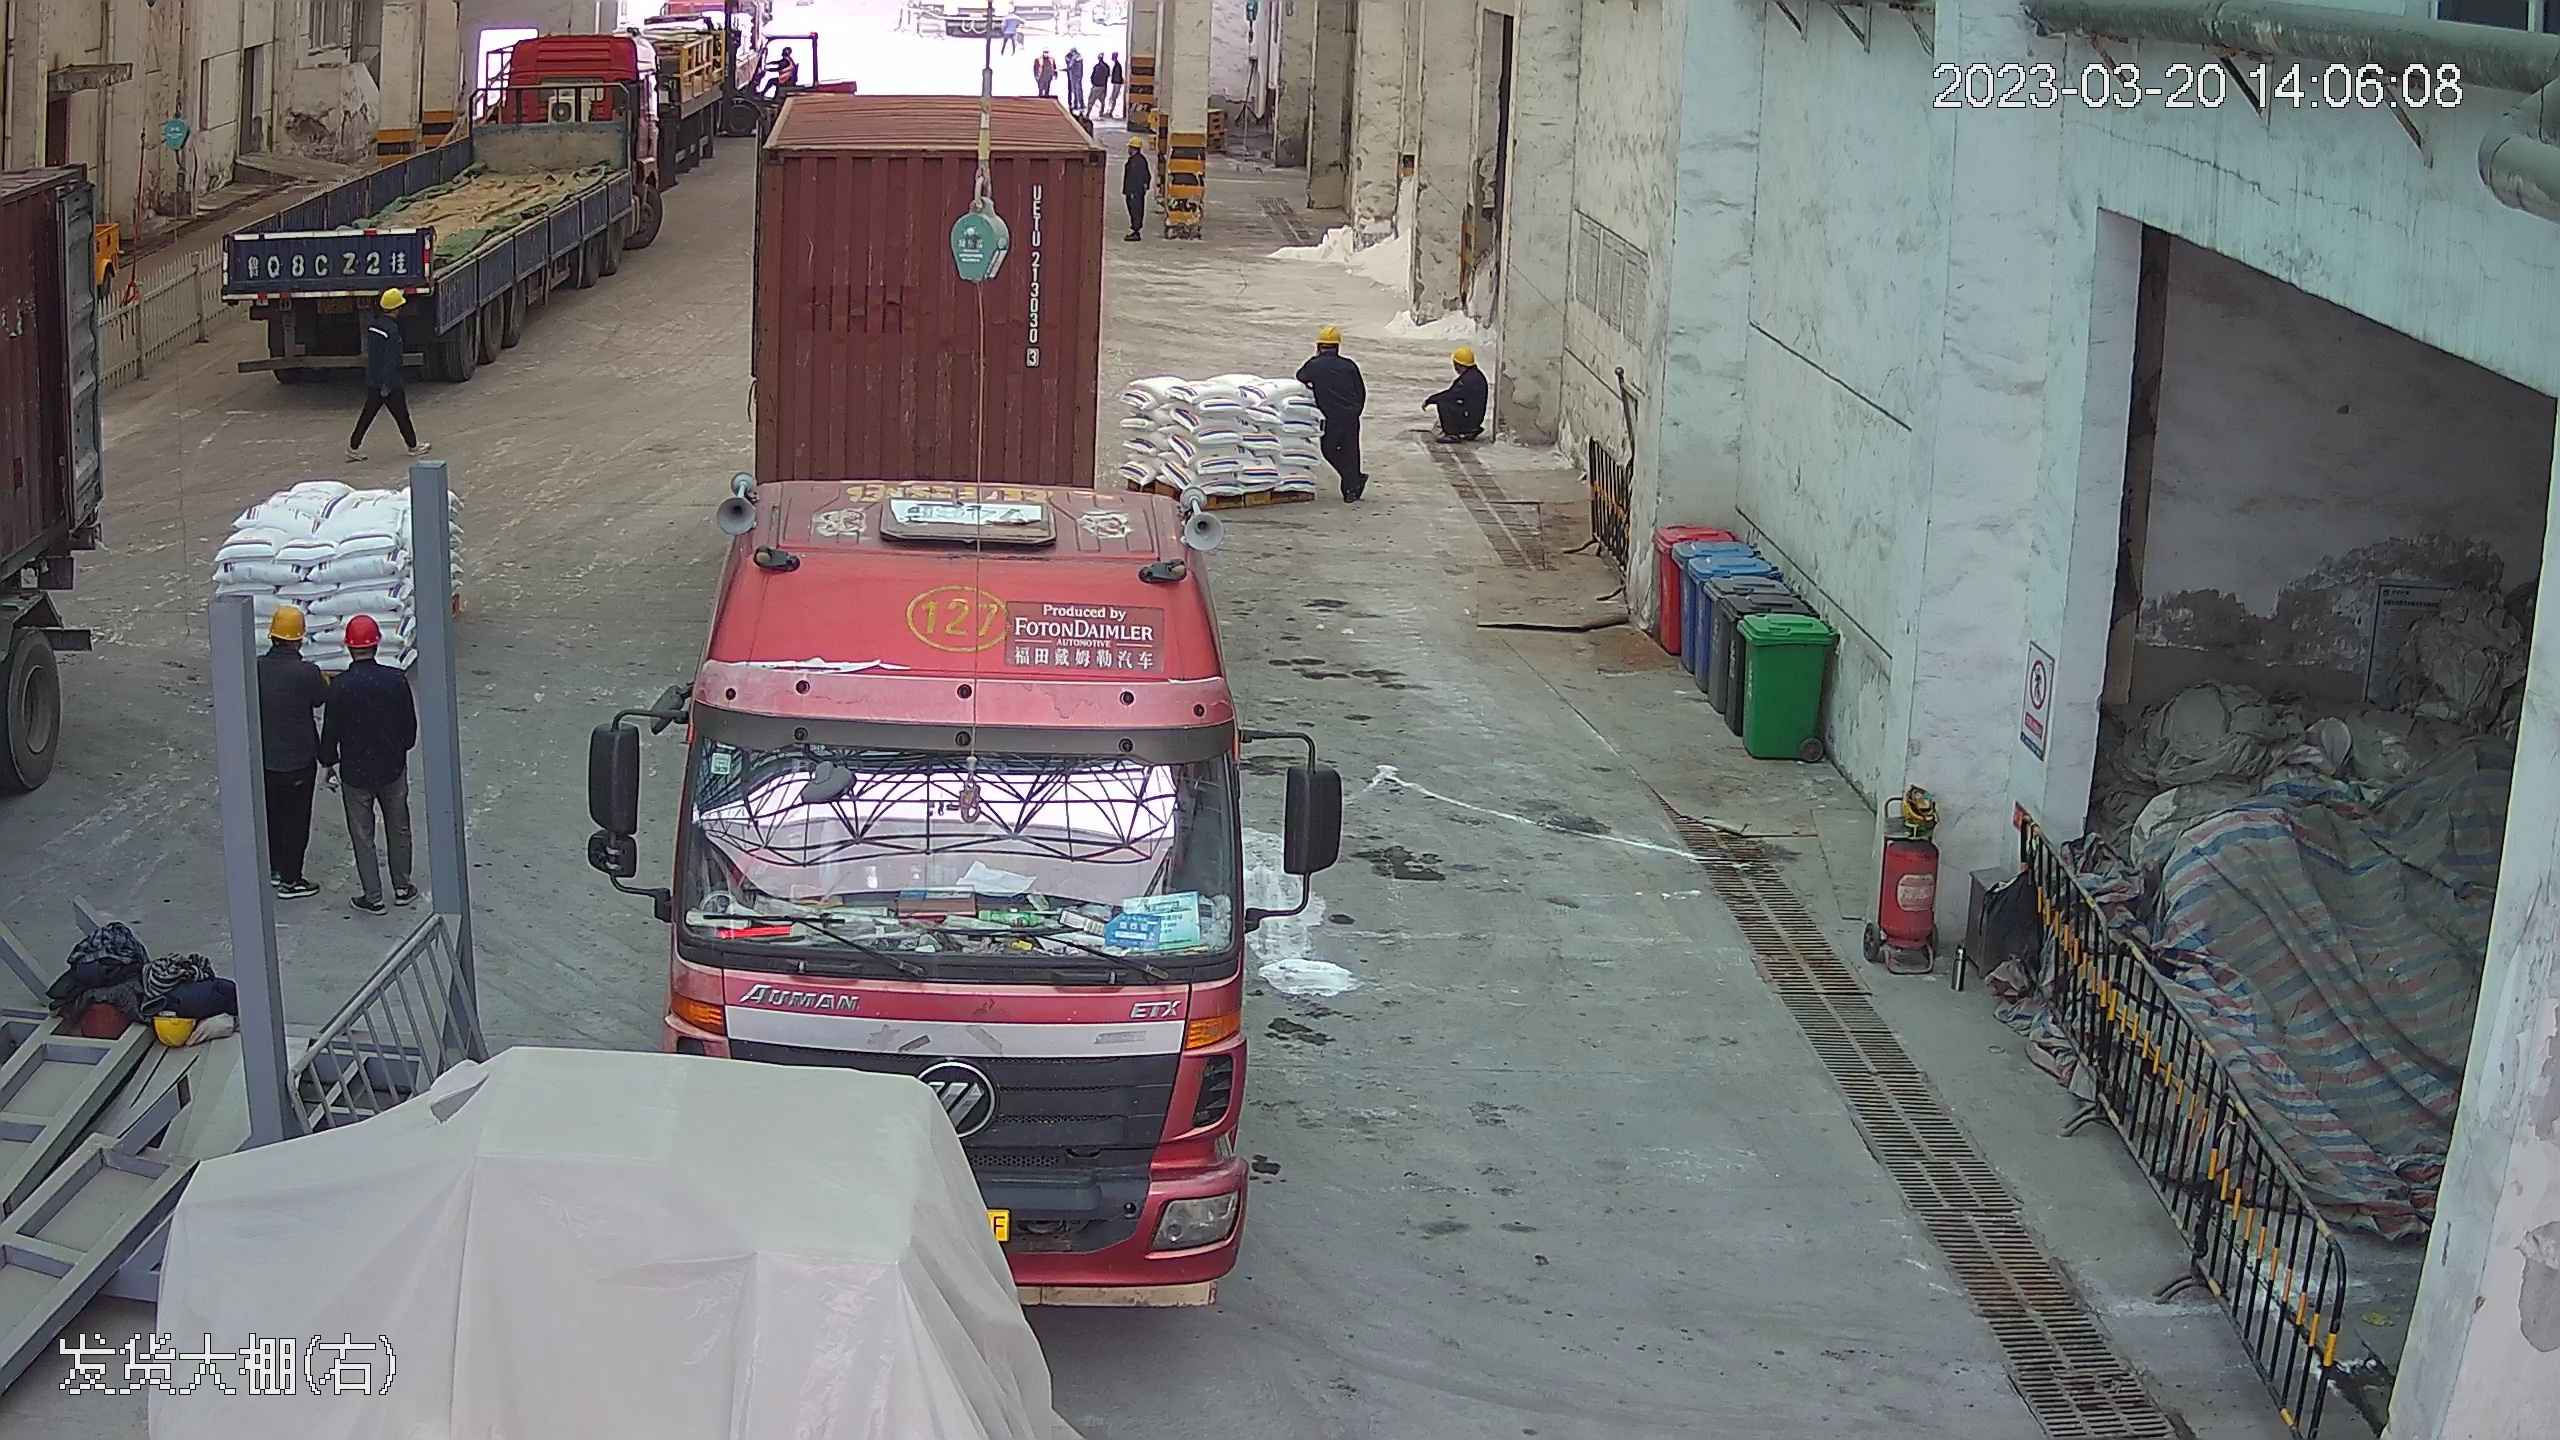head: (328, 613, 412, 702), (255, 602, 324, 692), (1303, 320, 1364, 385), (366, 284, 416, 344), (1440, 343, 1488, 397), (1115, 133, 1151, 174)
helmet: (264, 601, 307, 638), (341, 612, 381, 645), (1449, 344, 1481, 371), (379, 285, 408, 310), (1317, 321, 1346, 343), (1126, 136, 1144, 149)
people: (322, 609, 423, 917), (249, 599, 330, 885), (1300, 318, 1371, 510), (355, 282, 427, 457), (1434, 343, 1490, 443), (1120, 134, 1153, 238), (1086, 54, 1112, 117), (1067, 45, 1087, 110), (1109, 49, 1125, 116), (1035, 45, 1055, 95)
truck: (645, 23, 1263, 1309)
